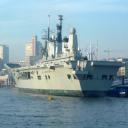Portanaves: (4, 12, 128, 100)
